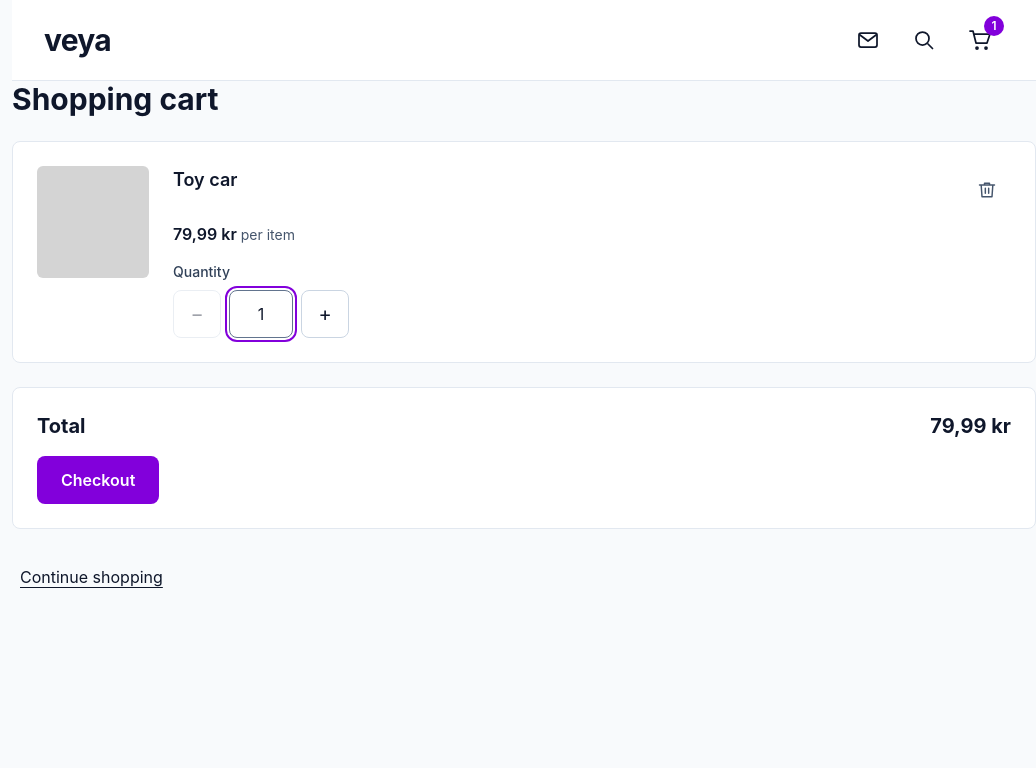
Test case: keeps the customer in the cart when checkout is clicked with an invalid quantity
Step 1. Replace the text in the field with "0" → (261, 314), box left=229, top=290, right=293, bottom=338
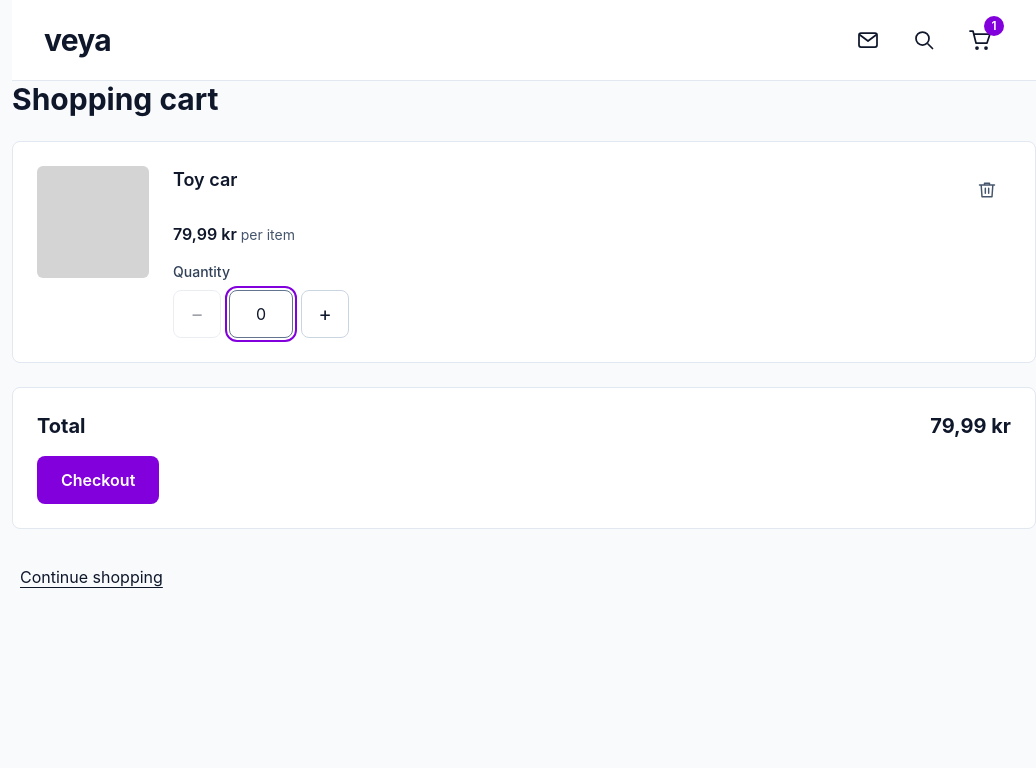
Step 2. Click the button "Checkout" → (98, 480), box left=37, top=456, right=159, bottom=504
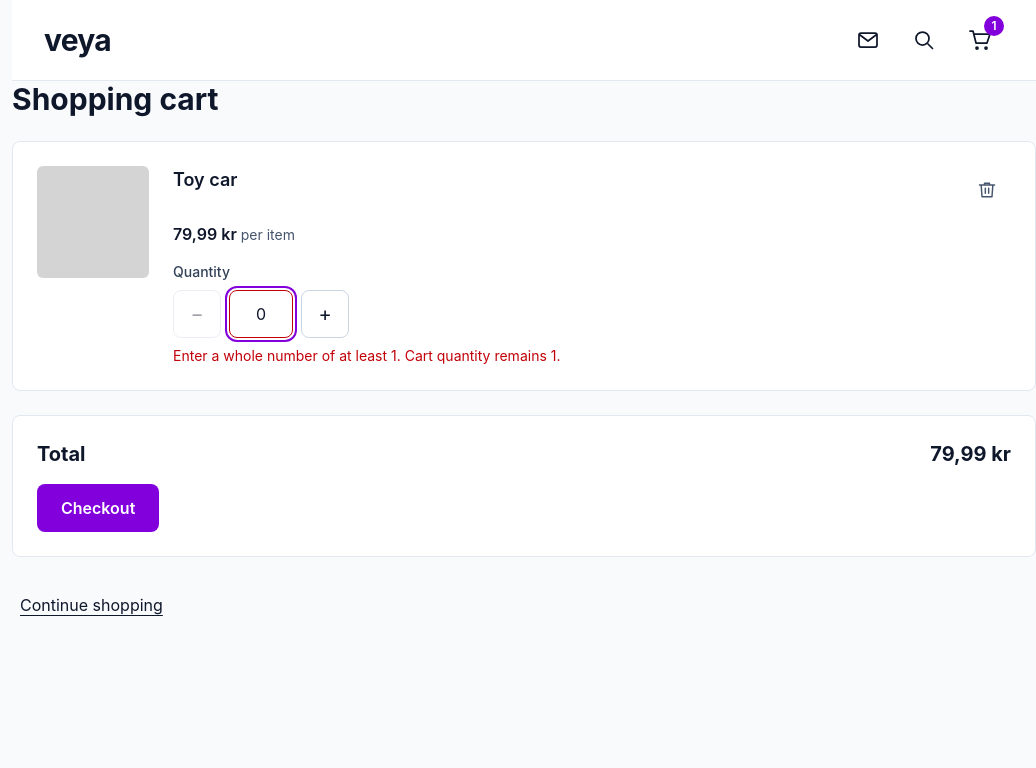
Check: the heading "Shopping cart" is shown, box left=12, top=81, right=219, bottom=117
Check: the message "Enter a whole number of at least 1. Cart quantity remains 1." is shown, box left=173, top=347, right=560, bottom=364
